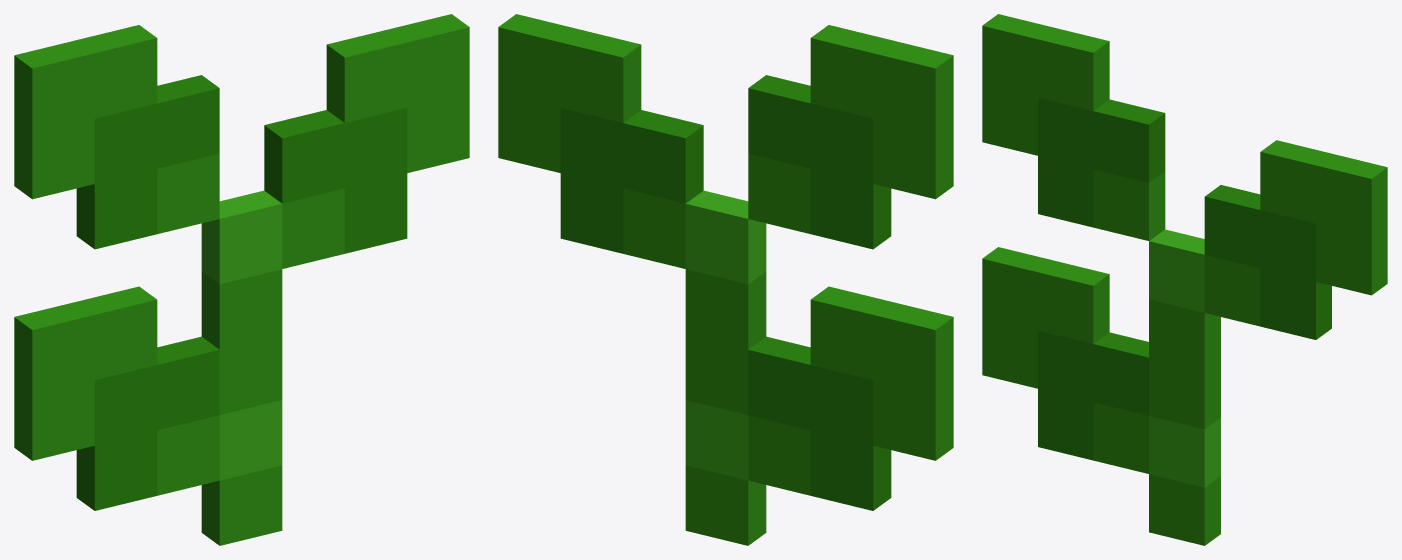
The model's file is Catnip.glb.
The picture shows the model from 3 angles, left to right: view 1: azimuth 30°, elevation 25°; view 2: azimuth 150°, elevation 25°; view 3: azimuth 330°, elevation 25°; orthographic projection. The views are drawn at different scales.
Parts seen in each view (by area): view 1: generated(Clone); view 2: generated(Clone); view 3: generated(Clone).
Boxes of the visible parts, box(x1,y1,x2,y2) form: generated(Clone): box(14, 14, 469, 545); generated(Clone): box(498, 14, 953, 545); generated(Clone): box(982, 14, 1387, 545).
Bounding box in the file's own units: 14 × 16 × 1.
1 material, 1 textured.
